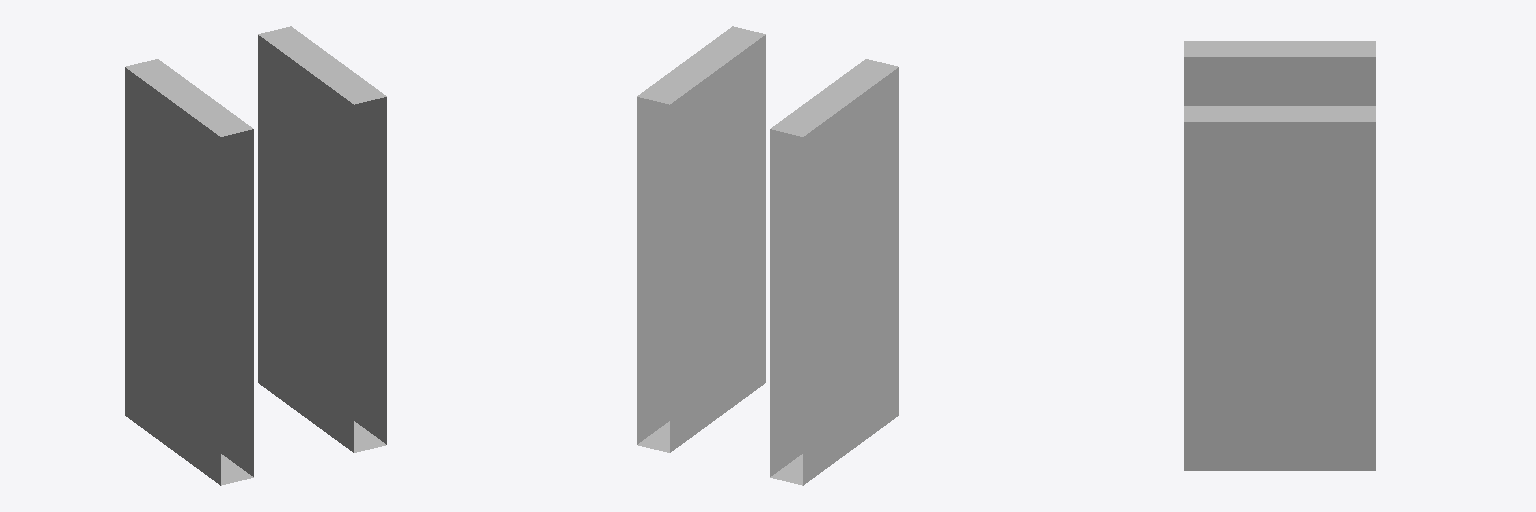
Rendered from double.obj.
3 views of the same model, side by side, from view 1: azimuth 30°, elevation 25°; view 2: azimuth 150°, elevation 25°; view 3: azimuth 270°, elevation 25° (orthographic).
Parts seen in each view (by area): view 1: Double_Cube.006; view 2: Double_Cube.006; view 3: Double_Cube.006.
Boxes of the visible parts, box(x1,y1,x2,y2) form: Double_Cube.006: box(125, 26, 386, 485); Double_Cube.006: box(637, 26, 898, 485); Double_Cube.006: box(1184, 41, 1375, 470).
Bounding box in the file's own units: 2 × 4 × 2.